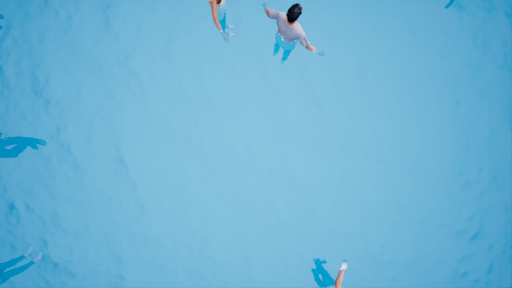person: (258, 2, 330, 67), (302, 248, 356, 288), (207, 1, 241, 43)
